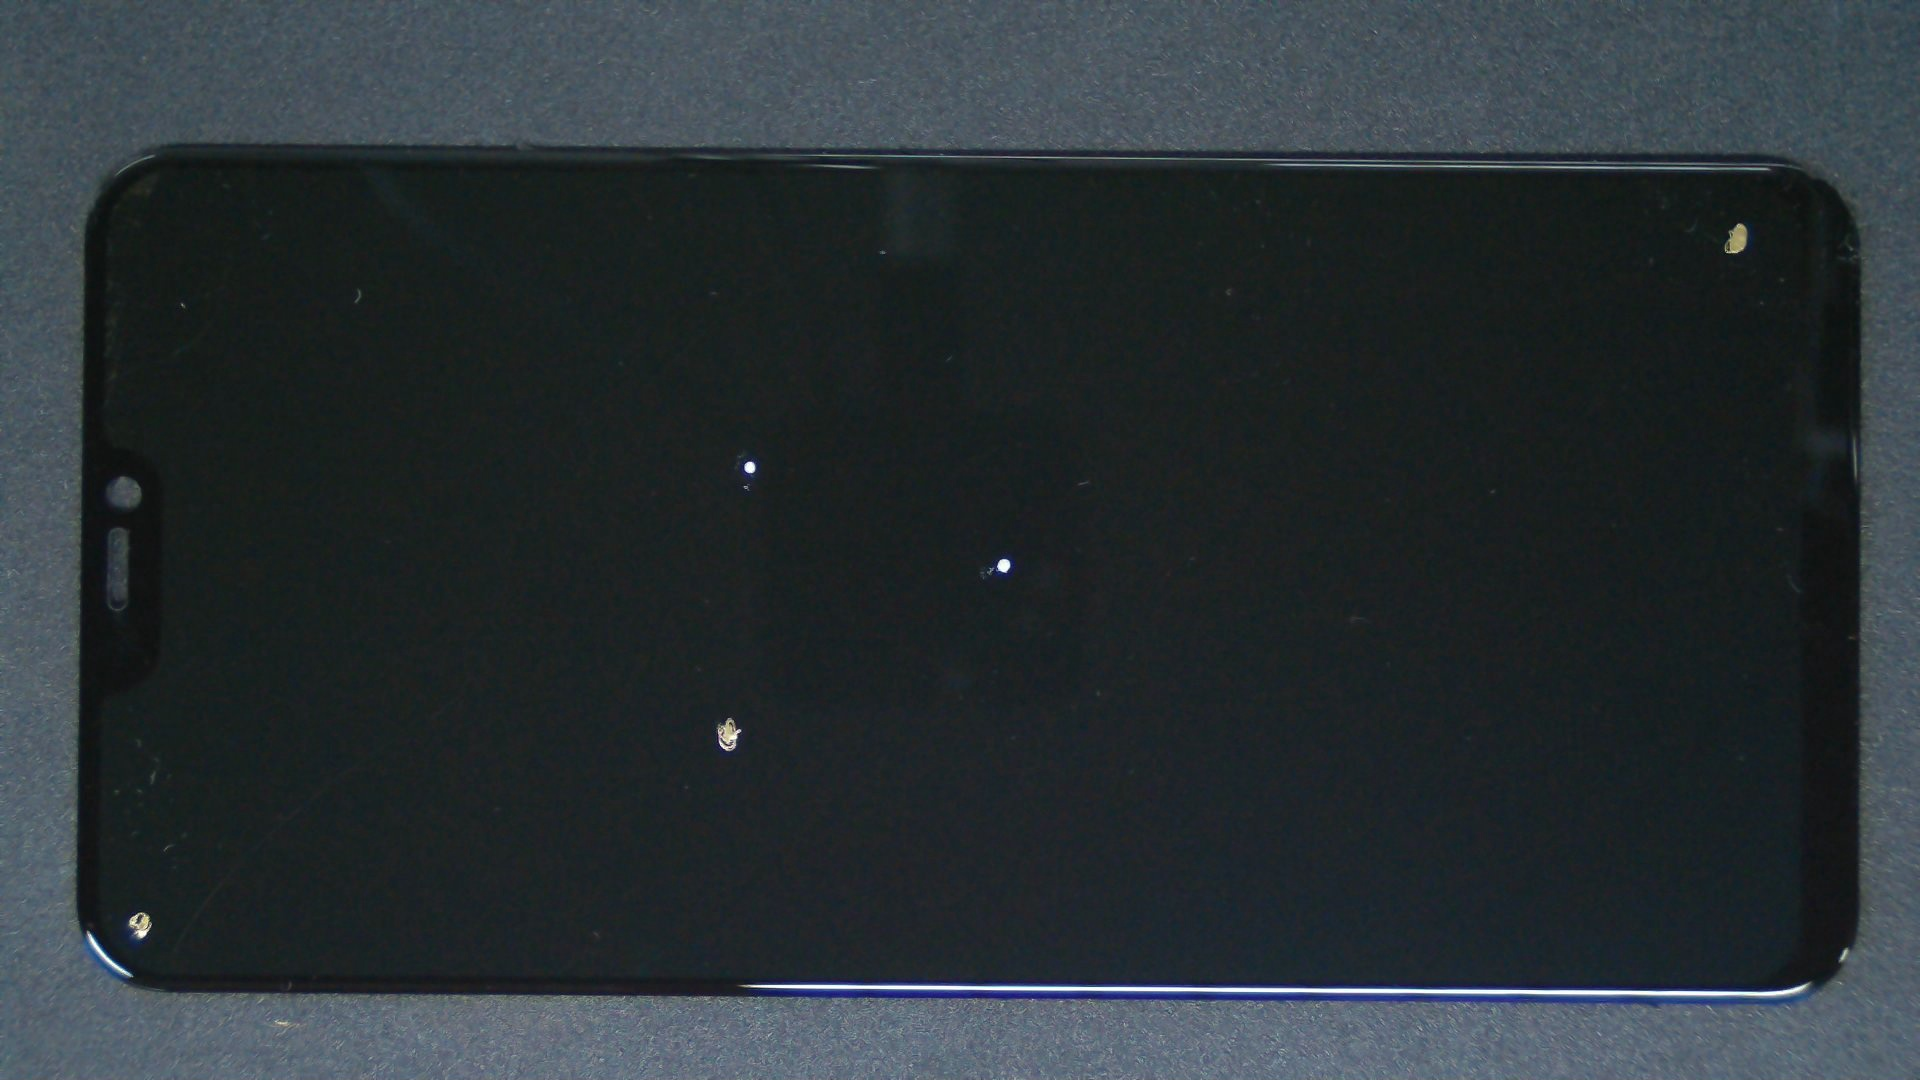oil: (502, 277, 1505, 835), (364, 357, 1091, 1073), (377, 229, 1130, 691), (870, 109, 1920, 331), (70, 455, 210, 1080)
